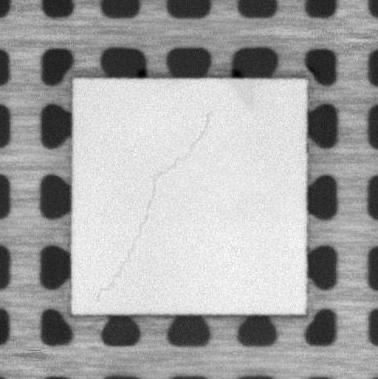DIE_CRACK: (94, 110, 214, 299)
